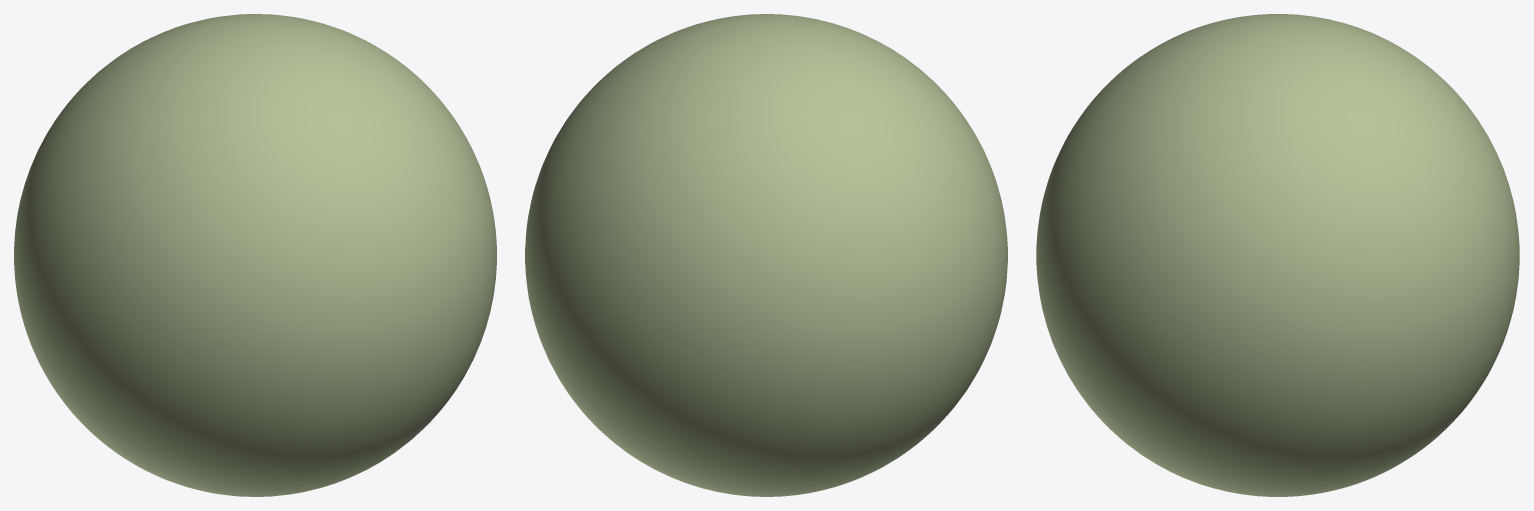
3 renders of one model, left to right at view 1: azimuth 30°, elevation 25°; view 2: azimuth 150°, elevation 25°; view 3: azimuth 270°, elevation 25°, orthographic.
Parts seen in each view (by area): view 1: Base; view 2: Base; view 3: Base.
Boxes of the visible parts, box(x1,y1,x2,y2) form: Base: box(14, 14, 496, 496); Base: box(525, 14, 1007, 496); Base: box(1036, 14, 1519, 496).
Size of the model in its own units: 1.7 by 1.7 by 1.7.
